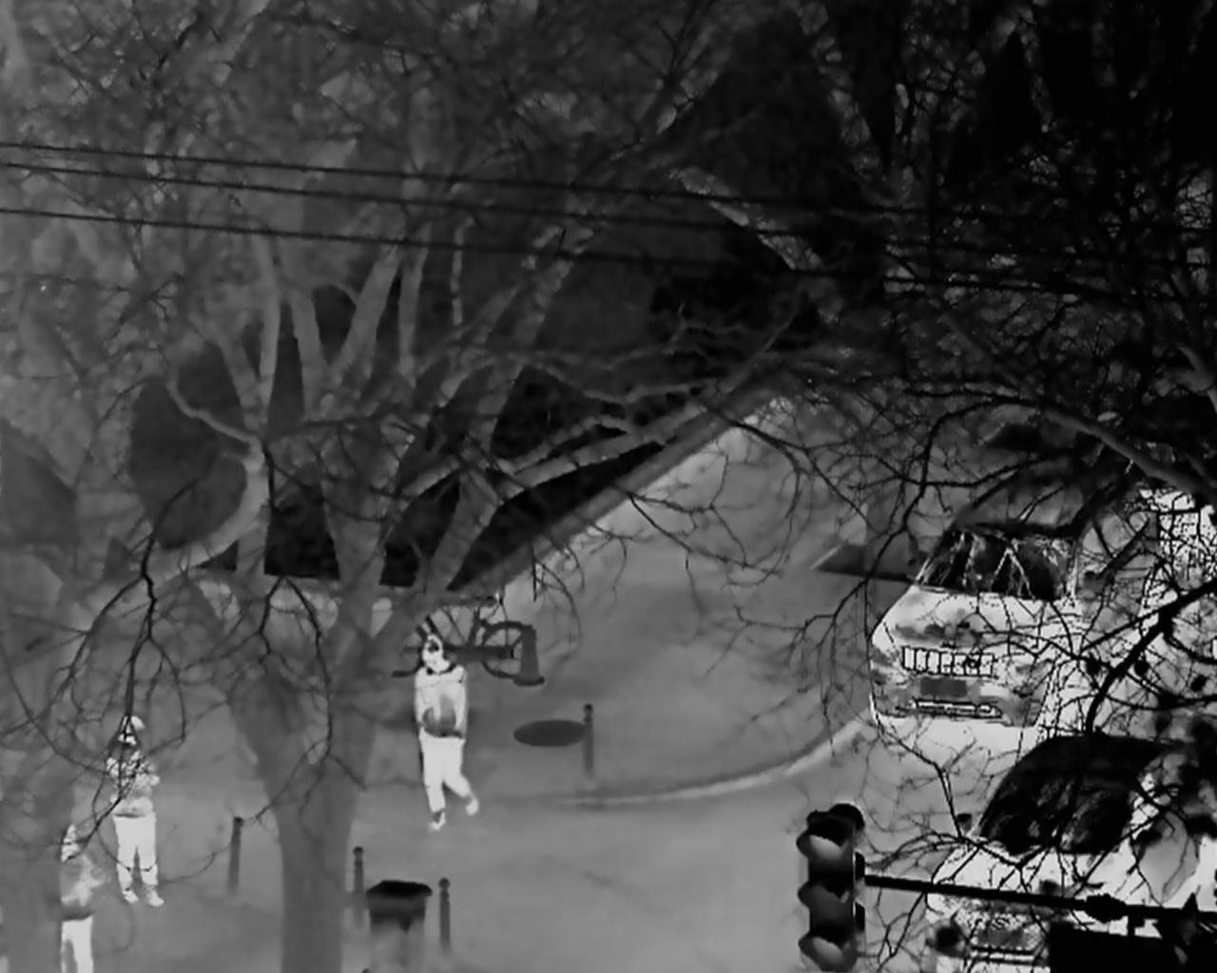person: (412, 633, 480, 831), (105, 714, 164, 908), (61, 824, 105, 973)
